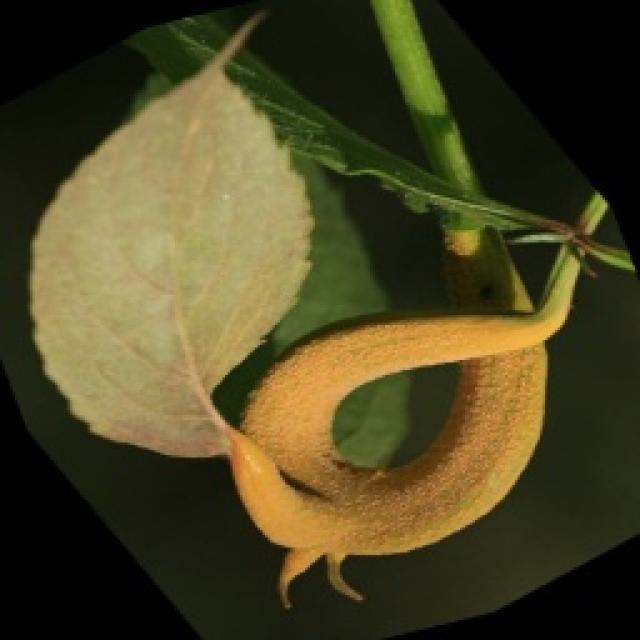Elderberry_rust: (222, 300, 550, 610)
